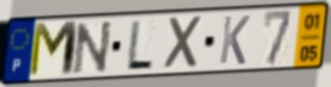7: (262, 7, 294, 68)
K: (217, 14, 252, 67)
L: (123, 18, 155, 71)
M: (26, 20, 81, 81)
N: (71, 19, 115, 77)
X: (163, 13, 206, 72)
